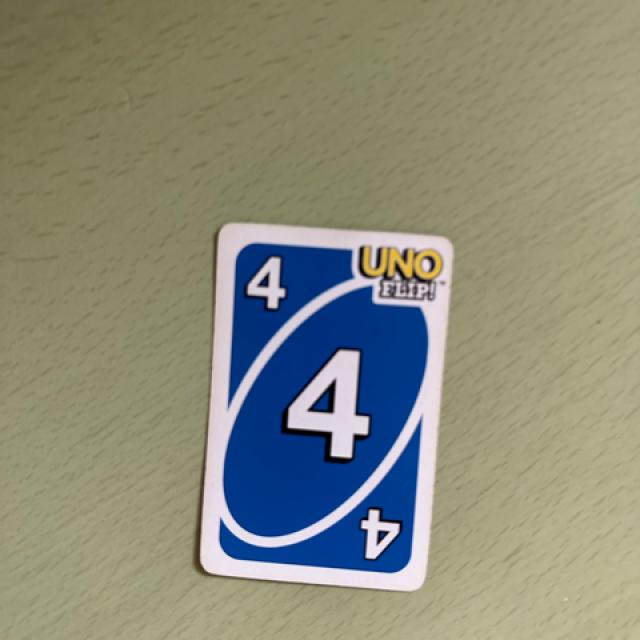lblue-4: (227, 236, 306, 339)
